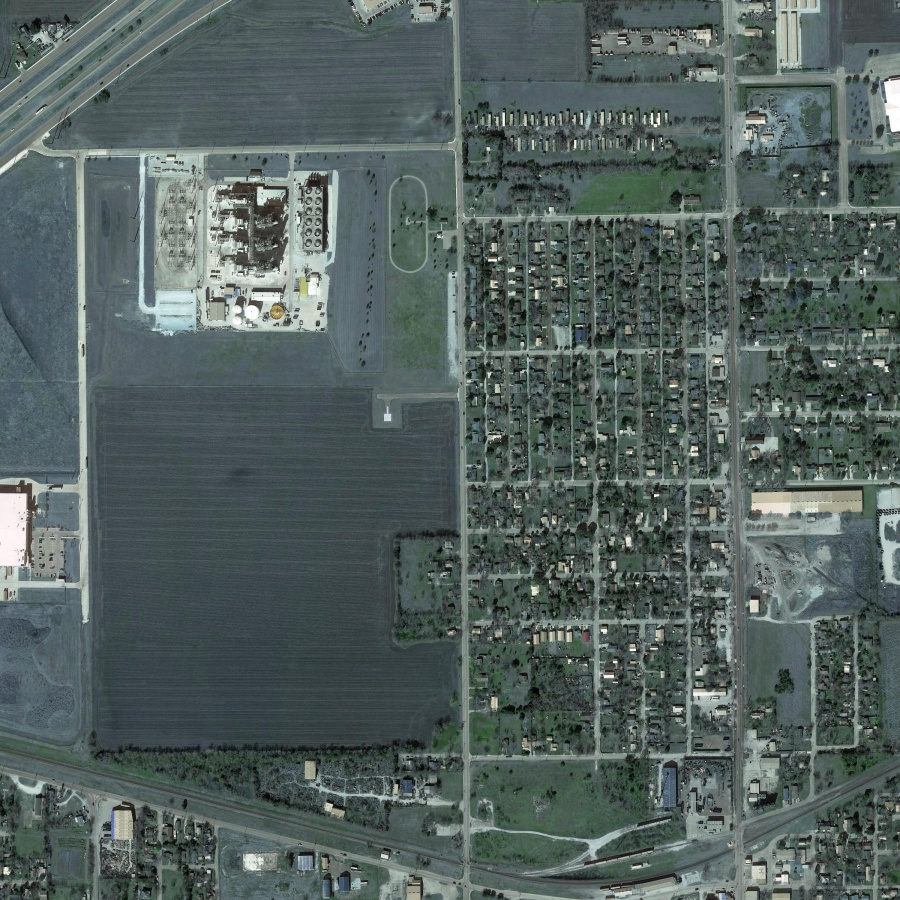PowerPlant: (141, 149, 335, 338)
